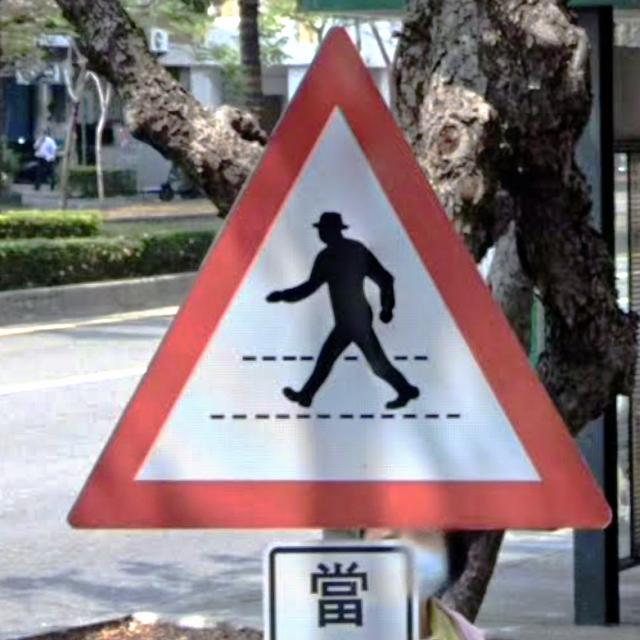pedestriancross: (67, 27, 614, 533)
